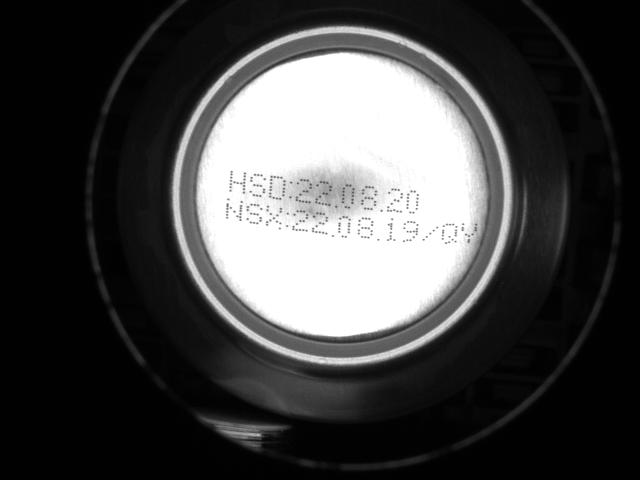.: (332, 195, 340, 210), (327, 224, 335, 239), (377, 199, 385, 214), (375, 228, 383, 243)
/: (421, 222, 439, 246)
0: (340, 182, 356, 211), (337, 212, 353, 241), (404, 186, 420, 215)
1: (385, 216, 397, 243)
2: (294, 176, 313, 204), (313, 179, 332, 207), (290, 205, 309, 233), (310, 208, 329, 236), (385, 186, 404, 214)
8: (359, 183, 378, 211), (355, 215, 374, 243)
9: (401, 218, 420, 245)
:: (286, 178, 293, 200), (284, 208, 291, 230)
D: (268, 173, 286, 203)
H: (225, 168, 247, 197)
N: (223, 196, 243, 224)
Q: (440, 220, 459, 249)
S: (248, 170, 267, 200), (244, 198, 263, 228)
X: (264, 201, 284, 233)
Y: (460, 219, 478, 249)
